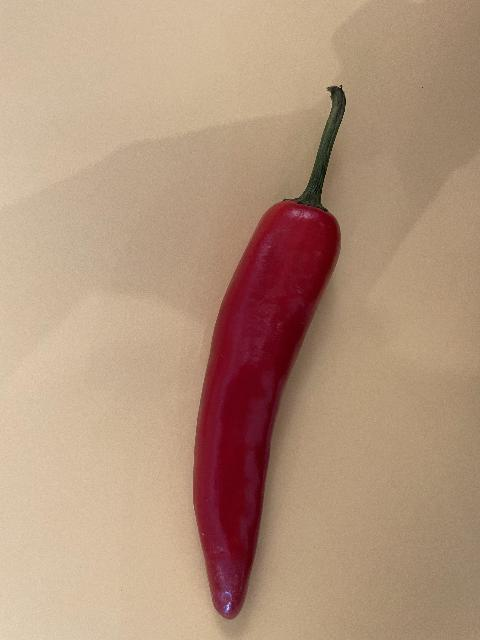chilli: (190, 85, 348, 623)
